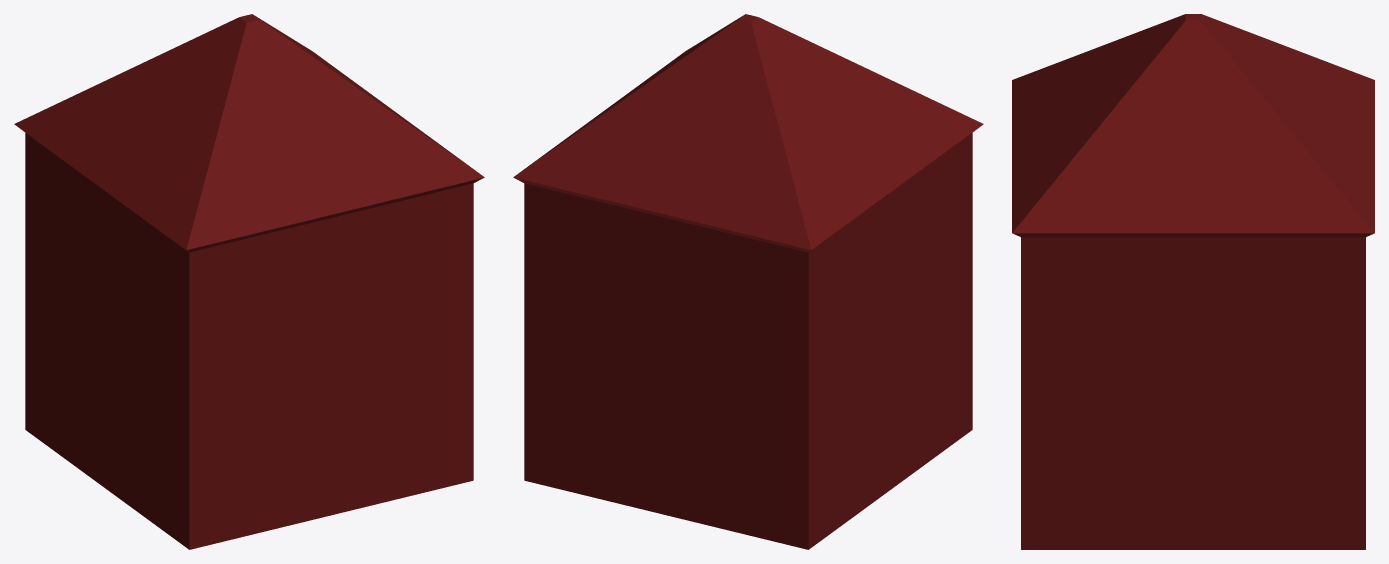
File: hotel.gltf
3 views of the same model, side by side, from view 1: azimuth 30°, elevation 25°; view 2: azimuth 150°, elevation 25°; view 3: azimuth 270°, elevation 25° (orthographic). The views are drawn at different scales.
Parts seen in each view (by area): view 1: Cube; view 2: Cube; view 3: Cube.
Boxes of the visible parts, x1,y1,x2,y2 form: Cube: [14, 14, 484, 549]; Cube: [513, 14, 983, 549]; Cube: [1012, 14, 1374, 549].
Bounding box in the file's own units: 0.2003 × 0.2801 × 0.2003.
